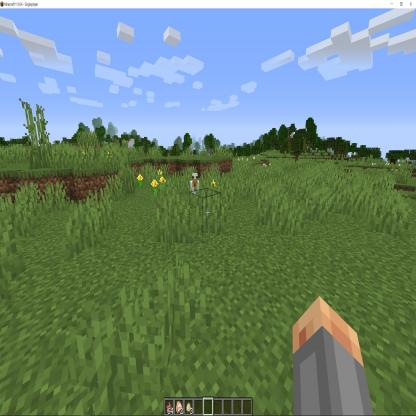minecraft-pigs: (189, 173, 202, 205)
